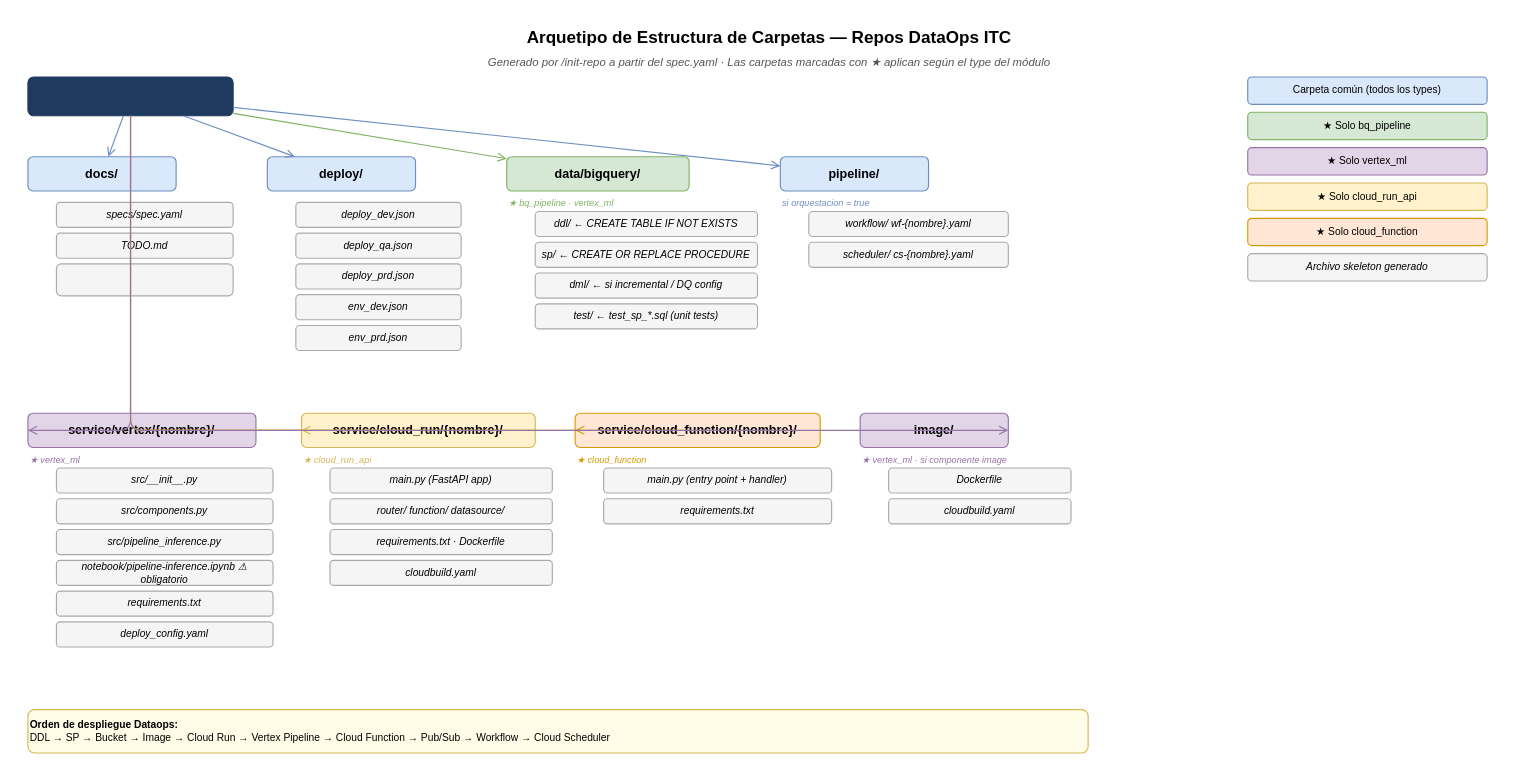
This 1530x773 diagram has some shape labels left out. Each missing label, with the centre of its shape:
[repo-name]/: the point at 130,96
architecture/ ★ context · data-flow · component · sequence: the point at 144,279
